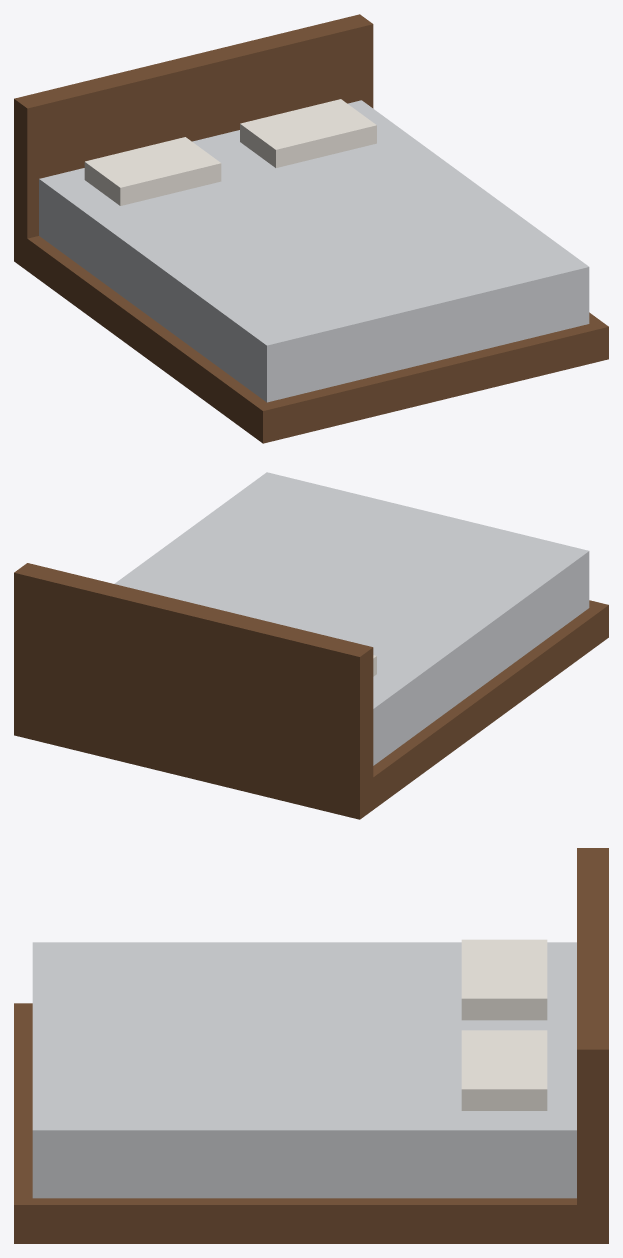
Rendered from bed.glb.
3 views of the same model, one above another, from view 1: azimuth 30°, elevation 25°; view 2: azimuth 150°, elevation 25°; view 3: azimuth 270°, elevation 25° (orthographic). The views are drawn at different scales.
Size of the model in its own units: 1.78 by 0.8 by 2.22.
